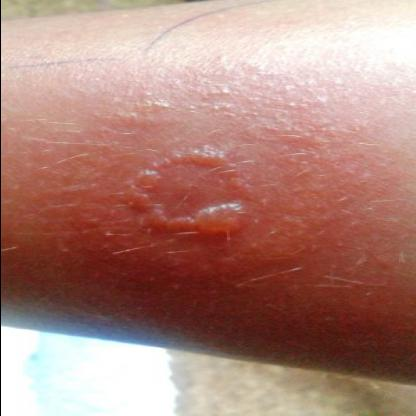Tick: (47, 107, 391, 279)
